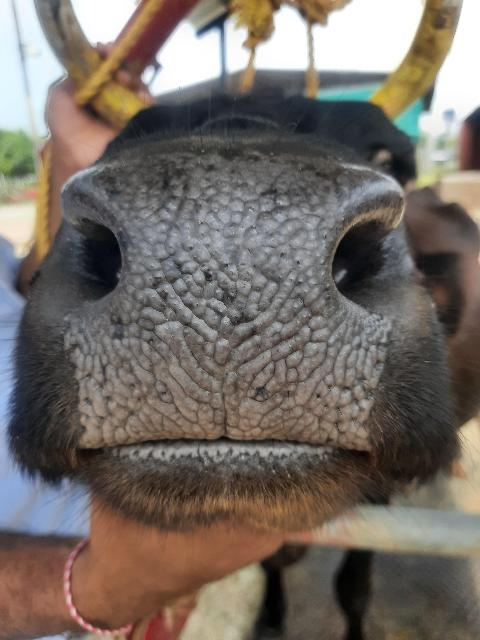Muzzle: (119, 170, 325, 426)
